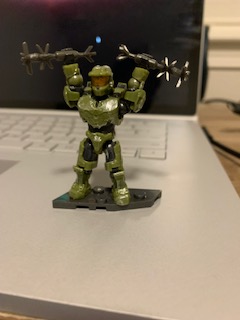chief: (60, 43, 152, 208)
spartan: (58, 41, 150, 206)
up: (58, 46, 150, 130)
